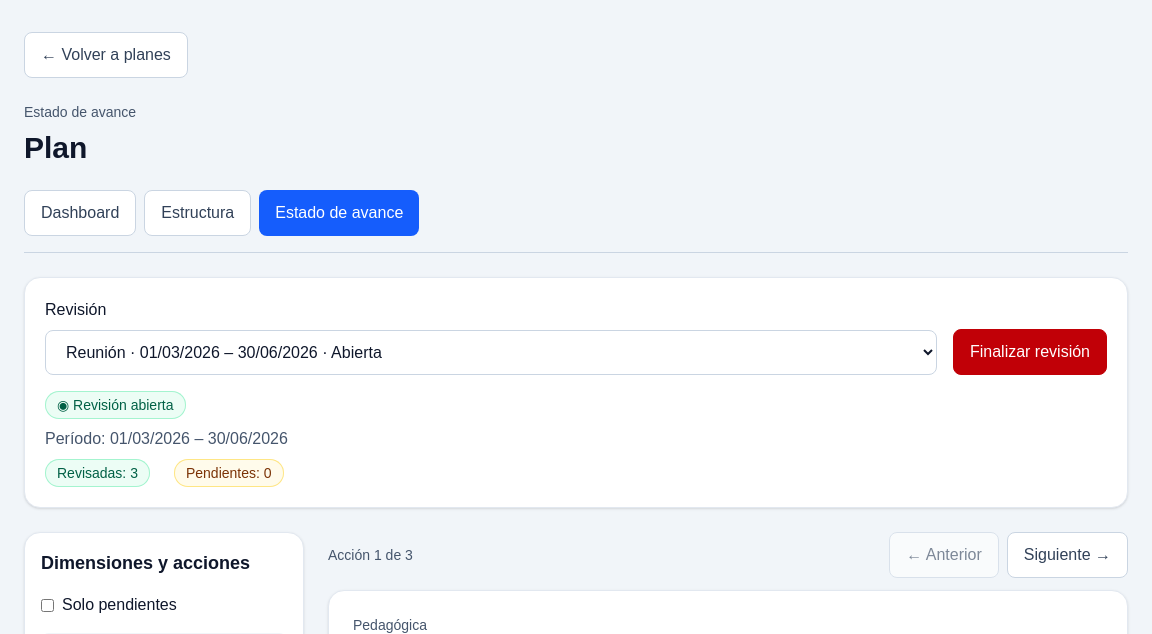
it: finaliza exigiendo confirmación cuando corresponde (pendientes=false)
Click the button "Finalizar revisión": (1030, 352) [953,329,1107,375]
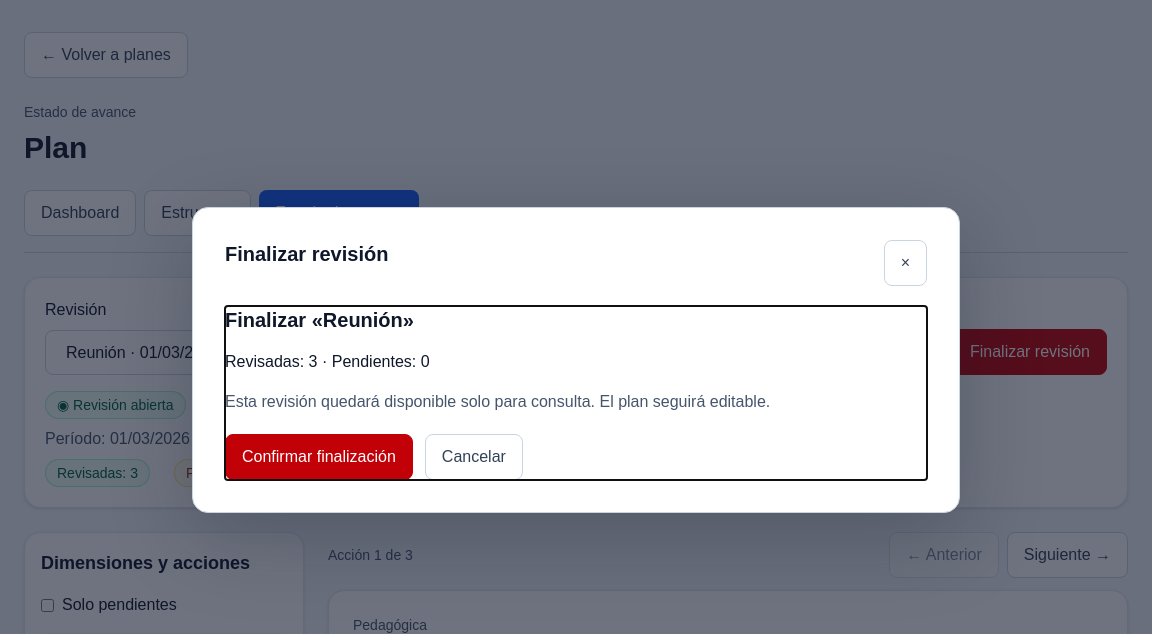
Click the button "Confirmar finalización": (319, 457) [225,434,413,480]
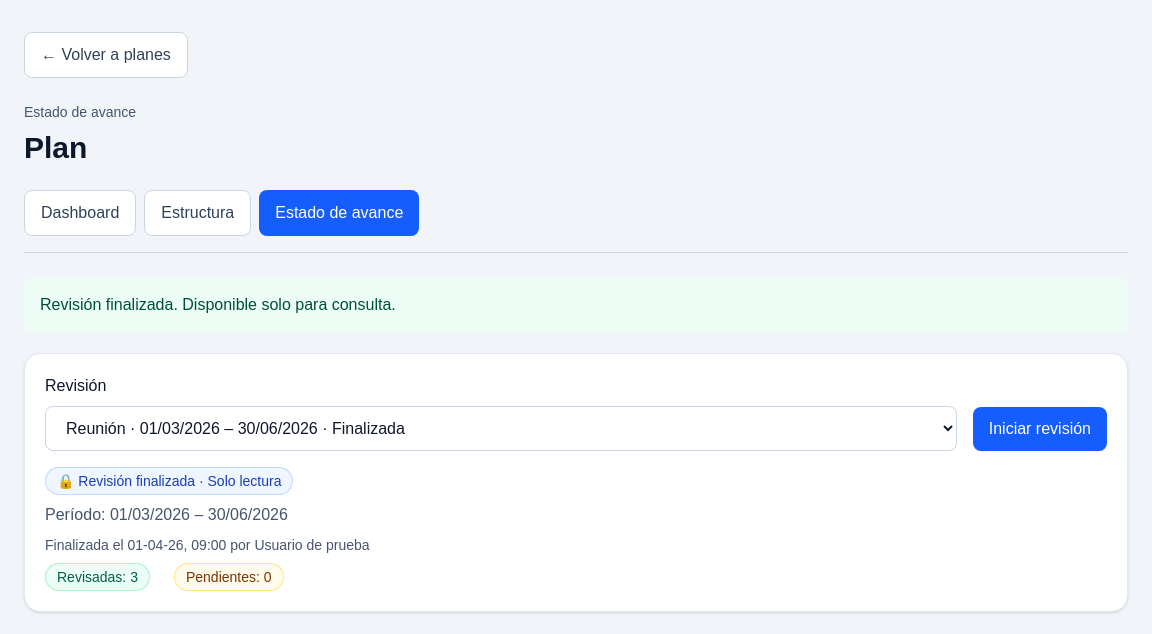
Now no fields labelled "Nuevo avance" are shown
Now the text "🔒 Revisión finalizada · Solo lectura" is shown, box [45,467,294,495]
